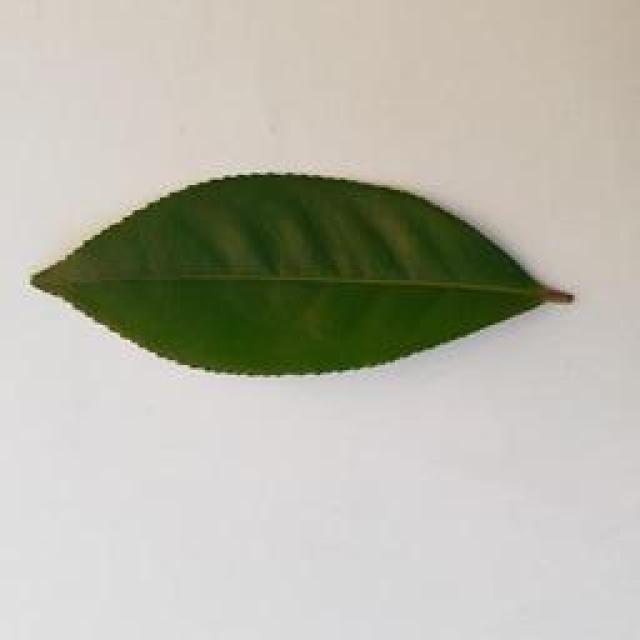Healthy: (22, 168, 600, 390)
